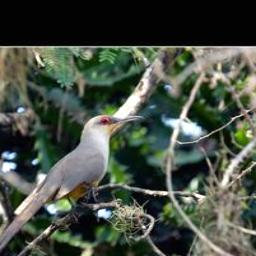Cuckoo: (0, 112, 146, 256)
